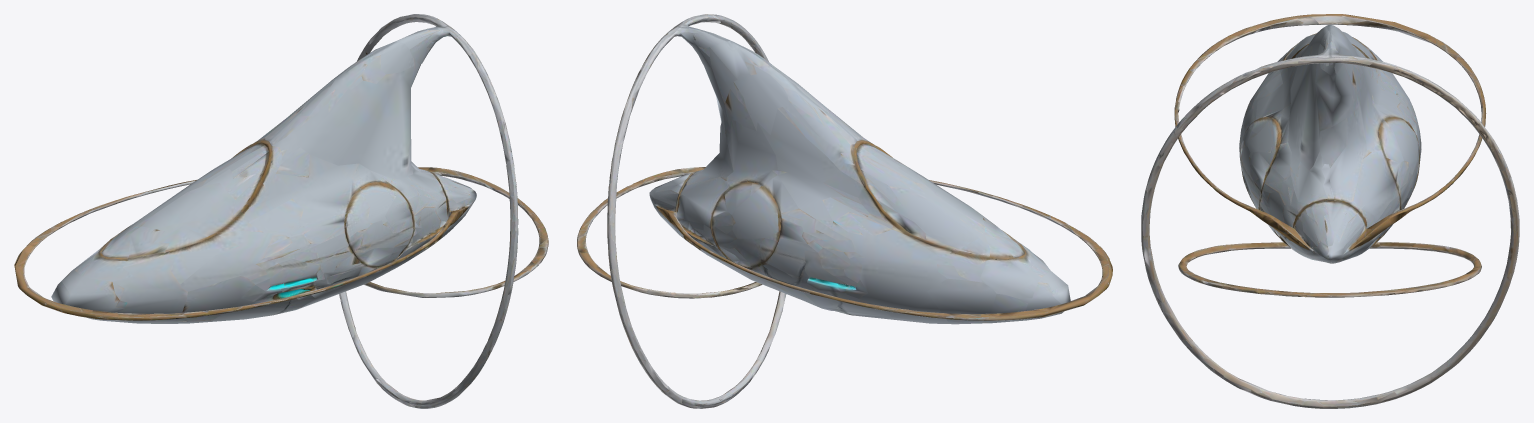
File: alp_leg_aeon_alt.glb
3 renders of one model, left to right at view 1: azimuth 30°, elevation 25°; view 2: azimuth 150°, elevation 25°; view 3: azimuth 270°, elevation 25°, orthographic. The views are drawn at different scales.
Size of the model in its own units: 1.9 by 1.33 by 1.19.
Materials: 1 (1 with a texture image).
